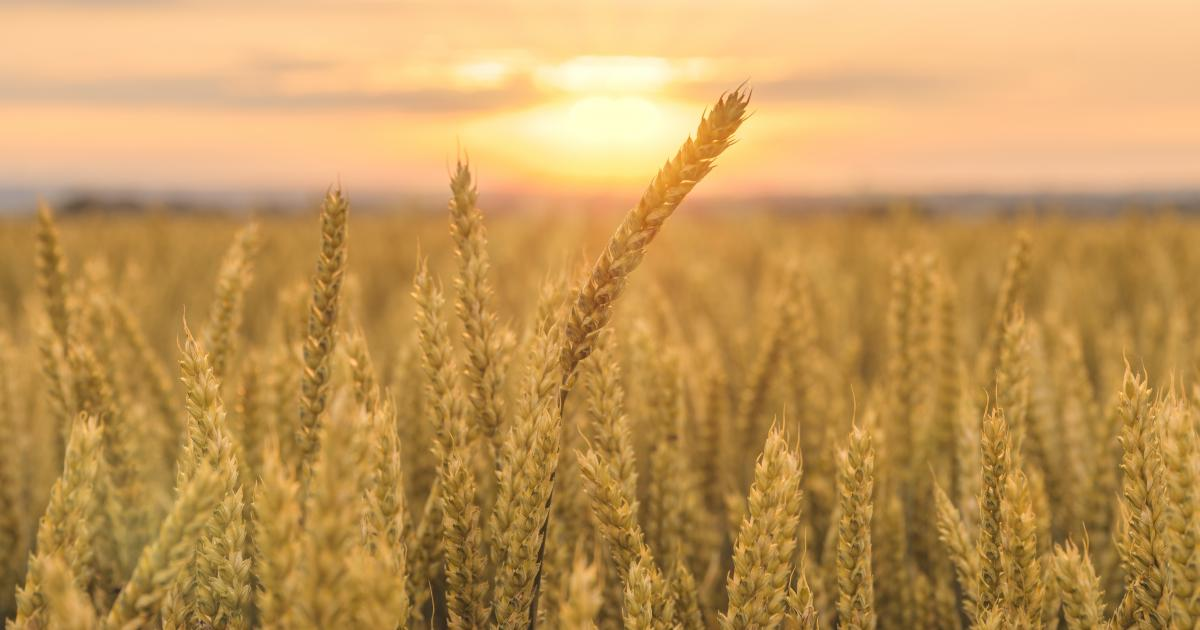wheat: (401, 83, 786, 617), (27, 171, 393, 601), (937, 222, 1192, 609), (691, 401, 931, 611)
